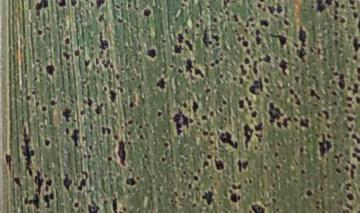tarspot: (16, 122, 37, 176), (171, 109, 192, 139), (216, 129, 241, 150), (113, 136, 129, 167), (264, 99, 282, 125), (241, 119, 256, 150), (316, 133, 335, 156), (75, 168, 90, 195), (286, 85, 303, 108), (268, 32, 288, 50), (96, 29, 111, 52), (234, 156, 253, 174), (200, 187, 217, 207), (70, 122, 82, 150), (312, 1, 333, 17), (19, 193, 41, 208), (43, 189, 58, 210), (257, 51, 273, 70), (33, 1, 51, 17), (153, 74, 169, 92), (61, 169, 73, 193), (297, 114, 313, 132), (291, 42, 307, 60), (297, 22, 308, 47), (142, 45, 158, 62), (308, 86, 325, 102), (247, 76, 261, 95), (242, 10, 255, 30), (228, 190, 244, 206), (120, 175, 137, 190), (61, 104, 73, 125), (278, 57, 291, 76), (33, 168, 42, 195), (205, 56, 225, 68), (91, 102, 107, 117), (10, 175, 25, 190), (85, 198, 100, 213), (192, 65, 207, 80), (3, 151, 14, 171), (140, 4, 154, 19), (170, 41, 184, 56), (212, 157, 226, 172), (59, 48, 72, 64), (250, 200, 266, 213), (243, 94, 255, 111), (183, 37, 197, 51), (274, 1, 287, 16), (229, 10, 242, 25), (251, 34, 265, 47), (263, 1, 275, 16), (336, 72, 345, 92), (79, 96, 95, 107), (236, 94, 245, 113), (255, 17, 270, 28), (52, 1, 68, 11), (110, 196, 120, 212), (176, 31, 186, 47), (228, 180, 244, 190), (321, 108, 333, 121), (200, 128, 217, 137), (98, 125, 113, 135), (347, 163, 357, 178), (106, 89, 118, 101), (191, 97, 200, 113), (279, 15, 291, 27), (290, 110, 299, 126), (80, 55, 91, 68), (86, 119, 97, 132), (160, 137, 171, 150), (296, 165, 309, 176), (345, 190, 358, 201), (291, 74, 304, 85), (45, 63, 56, 75), (70, 45, 81, 57), (253, 120, 264, 132), (303, 187, 315, 198), (271, 137, 282, 149), (210, 33, 221, 45), (327, 86, 338, 98), (349, 132, 360, 144), (42, 177, 54, 188), (114, 13, 124, 26), (298, 142, 307, 156), (61, 35, 72, 46), (190, 172, 201, 183), (201, 84, 212, 95), (333, 164, 344, 175), (136, 130, 146, 142), (81, 151, 93, 161), (262, 71, 270, 86), (237, 72, 245, 87), (335, 150, 347, 160), (342, 100, 354, 110), (199, 159, 212, 168), (33, 25, 43, 36), (61, 125, 72, 135), (77, 107, 88, 117), (197, 112, 208, 122), (259, 162, 270, 172), (205, 107, 216, 117), (324, 119, 335, 129), (95, 13, 107, 22), (156, 153, 168, 162), (181, 98, 190, 110), (239, 55, 251, 64), (353, 40, 360, 55), (354, 64, 360, 81), (47, 95, 57, 105), (159, 125, 169, 135), (190, 21, 200, 31), (204, 150, 214, 160), (344, 112, 354, 122), (30, 98, 41, 107), (111, 1, 122, 10), (104, 154, 115, 163), (91, 68, 102, 77), (254, 1, 263, 12), (320, 171, 331, 180), (94, 1, 108, 8), (244, 176, 256, 184), (262, 88, 270, 100), (42, 137, 51, 147), (38, 104, 48, 113), (69, 1, 79, 10), (111, 131, 120, 141), (126, 117, 136, 126), (273, 162, 282, 172), (275, 119, 284, 129), (338, 16, 347, 26), (24, 92, 32, 103), (190, 199, 201, 207), (270, 195, 278, 206), (271, 151, 282, 159), (349, 11, 360, 19), (268, 180, 280, 187), (354, 82, 360, 96), (124, 1, 133, 10), (249, 110, 258, 119), (344, 31, 353, 40), (111, 70, 119, 80), (136, 119, 144, 129), (159, 34, 167, 44), (210, 15, 218, 25), (87, 142, 95, 151), (128, 98, 136, 107), (141, 151, 150, 159), (219, 97, 228, 105), (208, 136, 216, 145), (317, 184, 325, 193), (254, 135, 262, 144), (286, 112, 292, 124), (222, 1, 230, 10), (338, 206, 350, 212), (72, 199, 79, 209), (218, 71, 225, 81), (230, 72, 237, 82), (333, 29, 340, 39), (342, 162, 349, 172), (176, 66, 182, 77), (180, 168, 191, 174), (335, 47, 343, 55), (100, 197, 109, 204), (120, 43, 129, 50), (342, 56, 349, 65), (330, 69, 339, 76), (34, 56, 42, 63), (155, 108, 162, 116), (349, 1, 357, 8), (355, 19, 360, 30), (31, 74, 37, 83), (128, 75, 137, 81), (341, 1, 346, 11), (126, 130, 133, 137), (169, 63, 176, 70), (346, 84, 352, 92), (123, 137, 132, 142), (180, 189, 185, 198), (36, 66, 43, 72)
